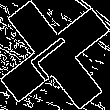L_NE: (25, 27, 85, 83)
